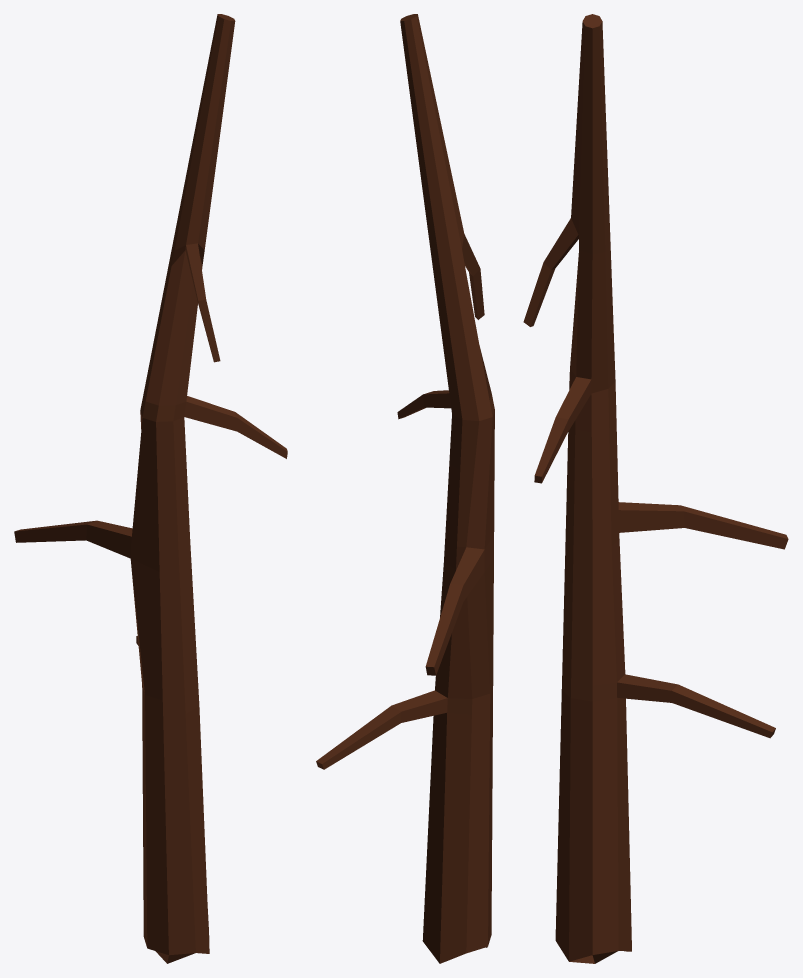
File: INSTANCE_DEAD_WOOD.glb
3 views of the same model, side by side, from view 1: azimuth 30°, elevation 25°; view 2: azimuth 150°, elevation 25°; view 3: azimuth 270°, elevation 25° (orthographic). The views are drawn at different scales.
Visible parts, largest first — view 1: Dead_Wood.008; view 2: Dead_Wood.008; view 3: Dead_Wood.008.
Part boxes in pixels (left/top/right/bottom): Dead_Wood.008: left=14, top=14, right=287, bottom=963; Dead_Wood.008: left=316, top=14, right=494, bottom=963; Dead_Wood.008: left=523, top=14, right=788, bottom=963.
Size of the model in its own units: 0.2555 by 1.46 by 0.3656.
